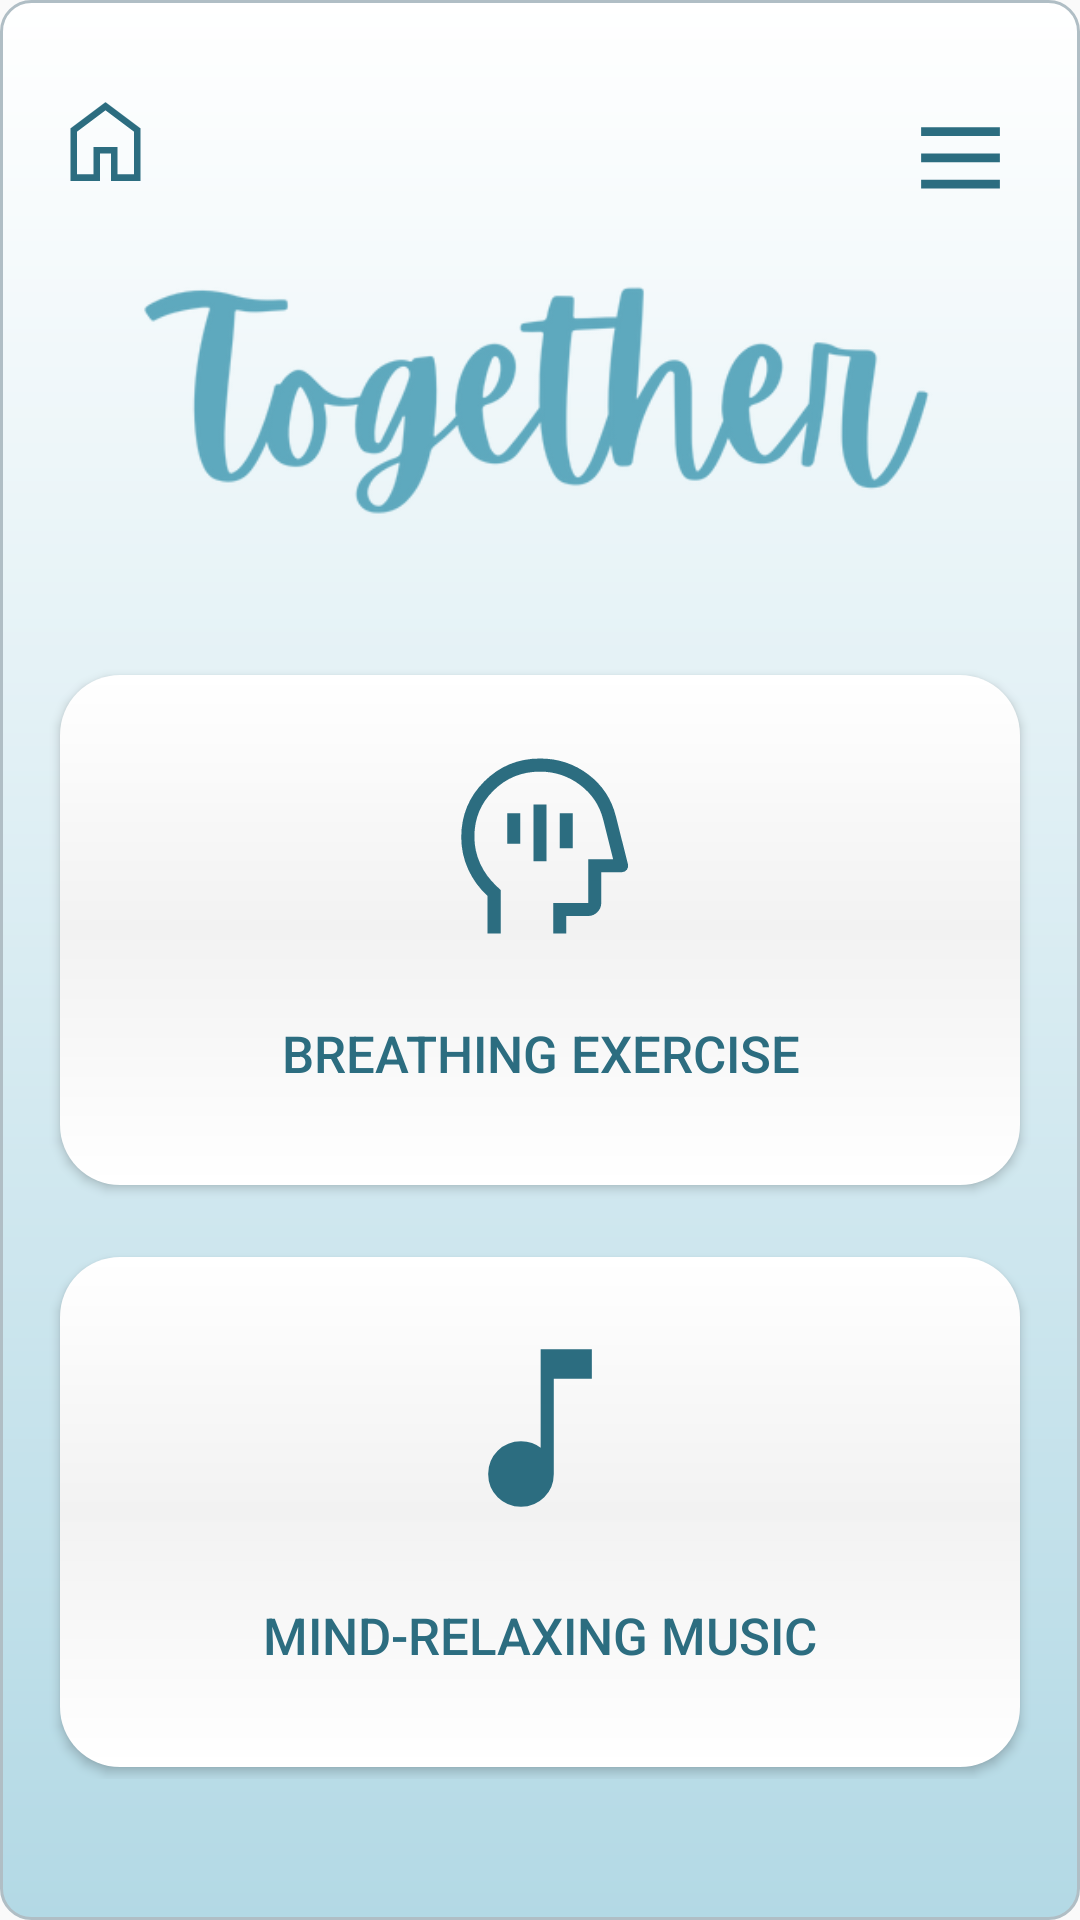

Icons on this 1080px×1920px Android screen, each with its box as BBox(x1, y1, x2, y2):
hamburger: BBox(921, 127, 1000, 189)
homebutton: BBox(70, 102, 141, 181)
